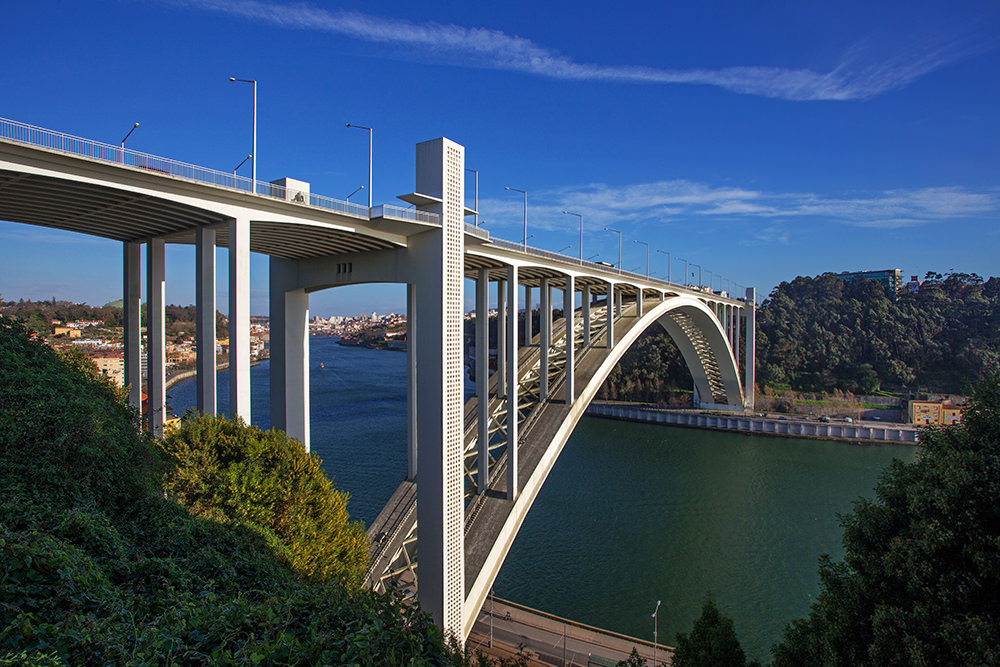arrabida: (0, 135, 758, 660)
